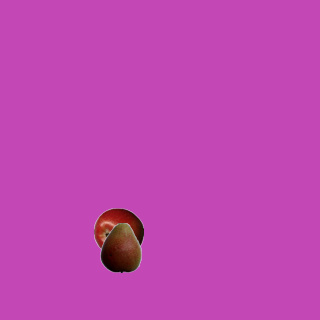Apple Braeburn: (93, 207, 143, 257)
Pear Forelle: (95, 222, 145, 272)
